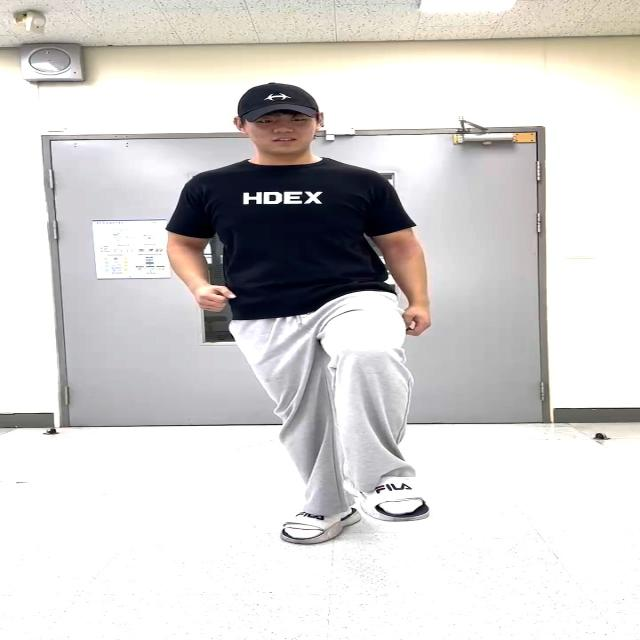leg: (309, 293, 492, 542)
